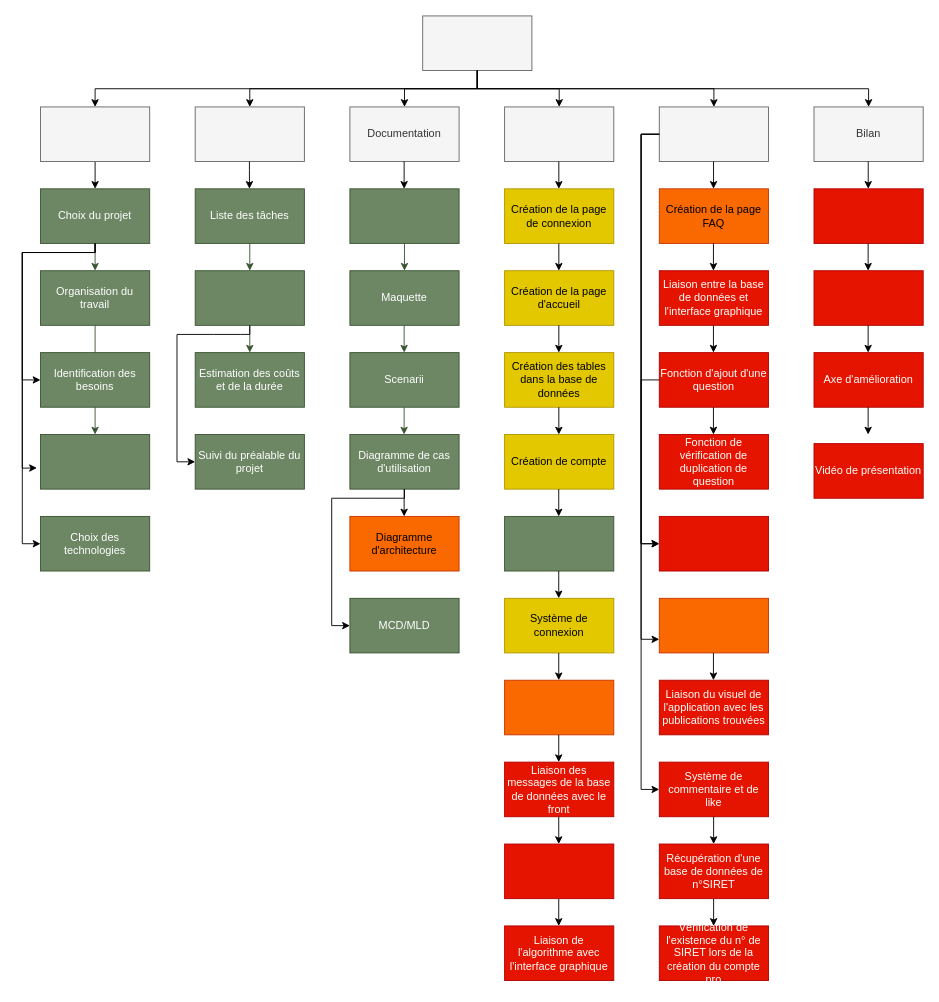
This 939x1002 diagram has some shape labels left out. The centre of each missing label's shape, as x and y in pixels:
Analyse des ecarts: [868,297]
Analyse gloable: [249,134]
Application Web: [477,43]
Création de l'algorithme d'envoi de message: [559,707]
Création de l'algorithme de recherche: [559,871]
Développement(autres fonctionnalités): [713,134]
Développement(Système de compte + système de messagerie): [559,134]
Etude préliminaire: [95,134]
Insertion des informations en base de donnée: [559,543]
Liaison entre la base de données et l'interface graphique de follow: [713,543]
Objectif finale du projet: [95,461]
Sketch: [404,215]
Suivi réel de projet: [868,215]
Système de publication: [713,625]
WBS: [249,297]
